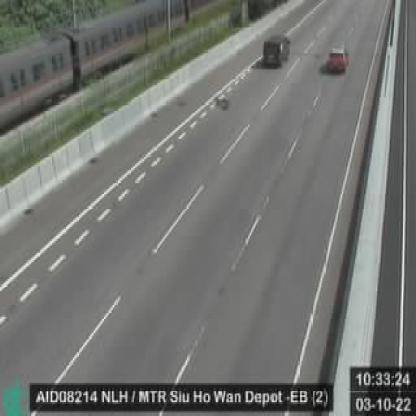Car: (261, 33, 290, 66), (326, 45, 348, 71)
